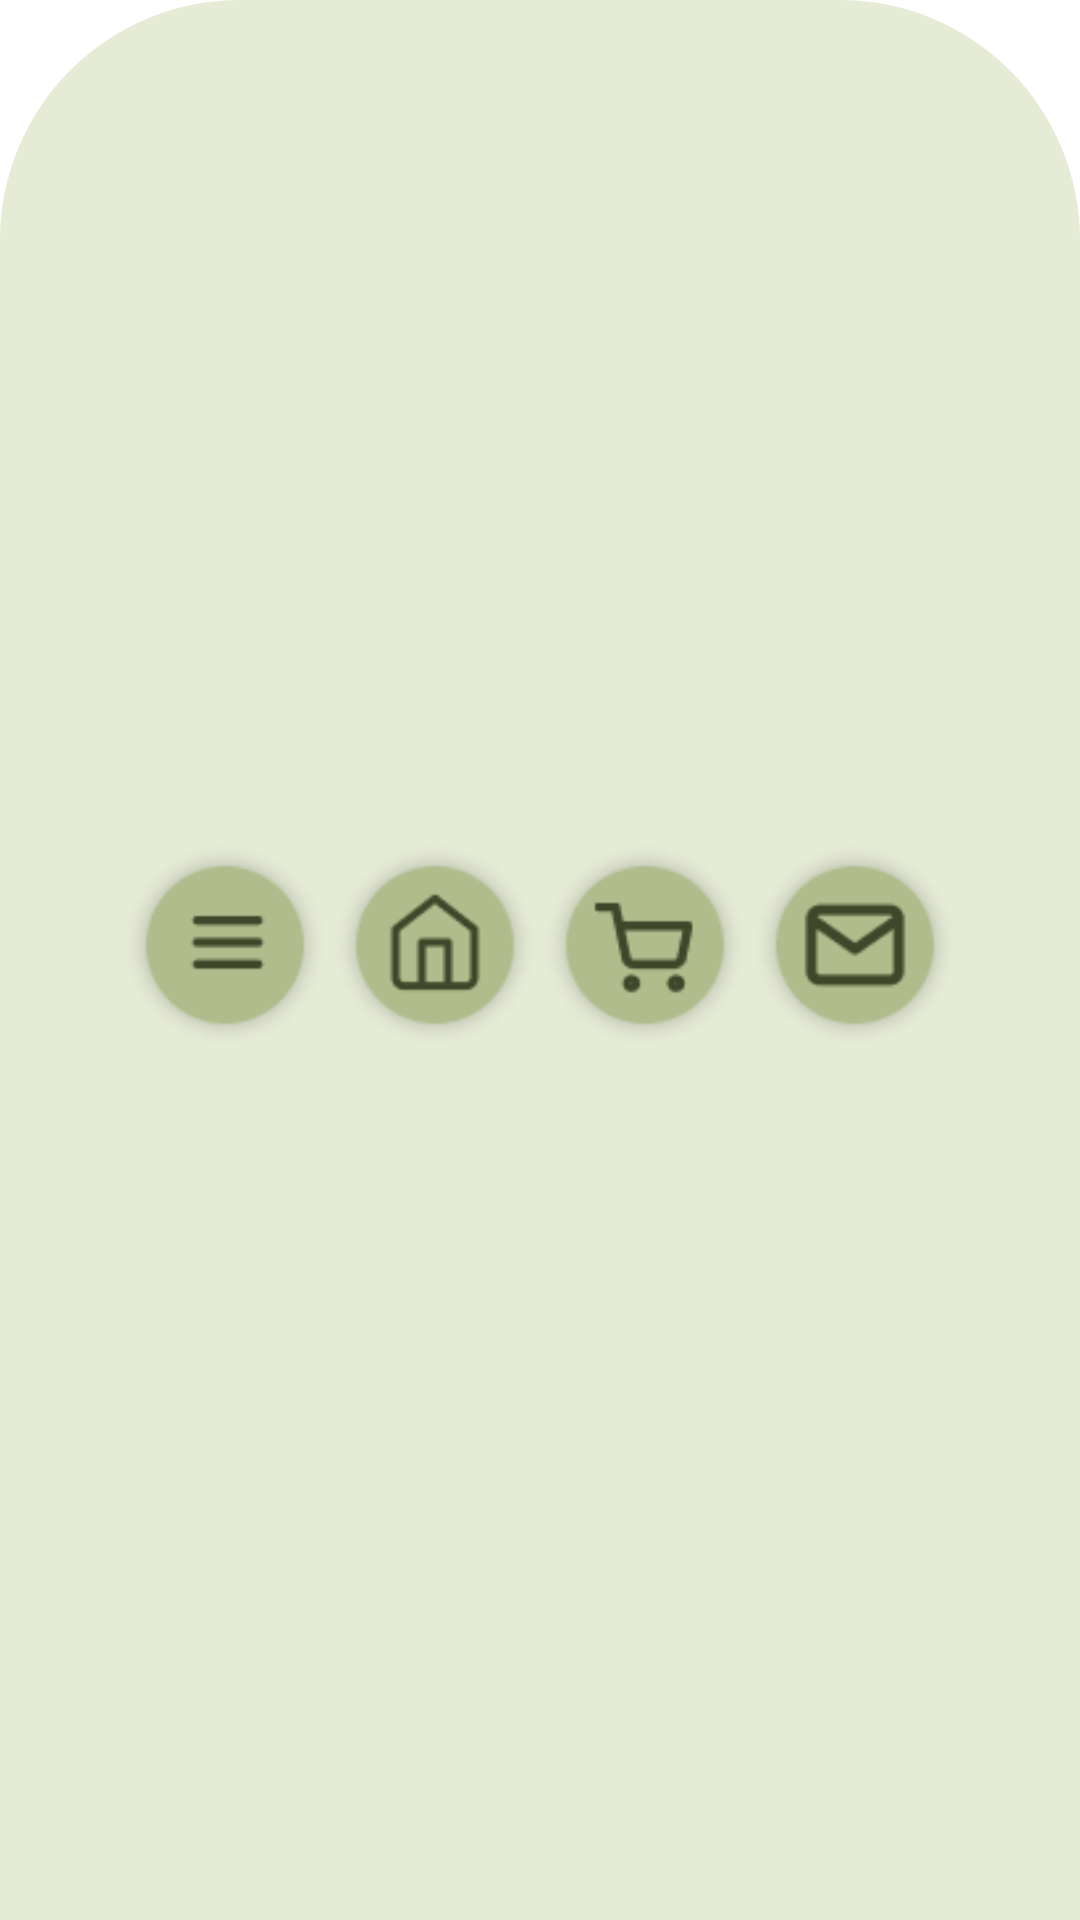

Where to tap for icons on this 1080 × 1920 app screen, as point (x, y):
Contact Button: point (855, 945)
Home Button: point (435, 945)
Menu Button: point (225, 945)
Shop Button: point (645, 945)
